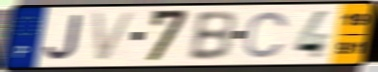4: (290, 9, 331, 61)
7: (146, 9, 191, 64)
B: (186, 9, 238, 62)
C: (242, 10, 291, 60)
J: (43, 12, 84, 61)
V: (90, 10, 140, 64)
